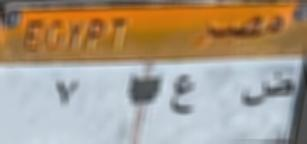7: (48, 73, 84, 114)
ain: (166, 72, 198, 121)
daad: (241, 71, 296, 112)
